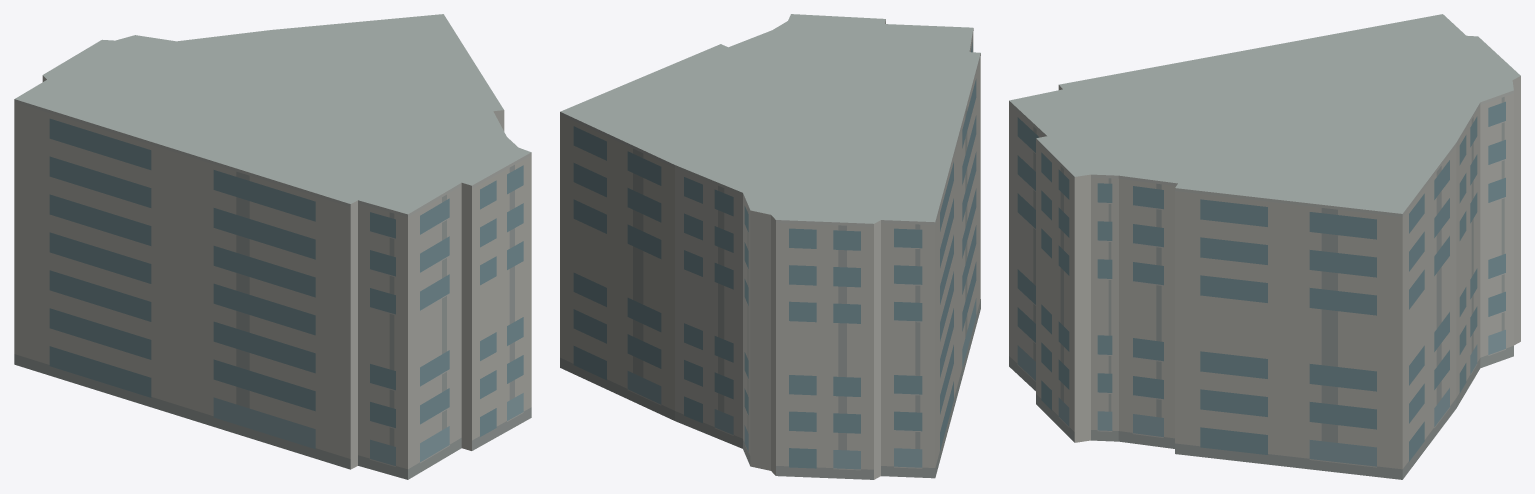
The model's file is survey-upis-32855677.glb.
The picture shows the model from 3 angles, left to right: view 1: azimuth 30°, elevation 25°; view 2: azimuth 150°, elevation 25°; view 3: azimuth 270°, elevation 25°; orthographic projection. The views are drawn at different scales.
Visible parts, largest first — view 1: survey-upis-32855677.tmp; view 2: survey-upis-32855677.tmp; view 3: survey-upis-32855677.tmp.
Part boxes in pixels (x1,y1,x2,y2): survey-upis-32855677.tmp: [14, 14, 531, 479]; survey-upis-32855677.tmp: [560, 14, 980, 479]; survey-upis-32855677.tmp: [1009, 14, 1520, 479].
Bounding box in the file's own units: 34.03 × 21.1 × 36.81.
